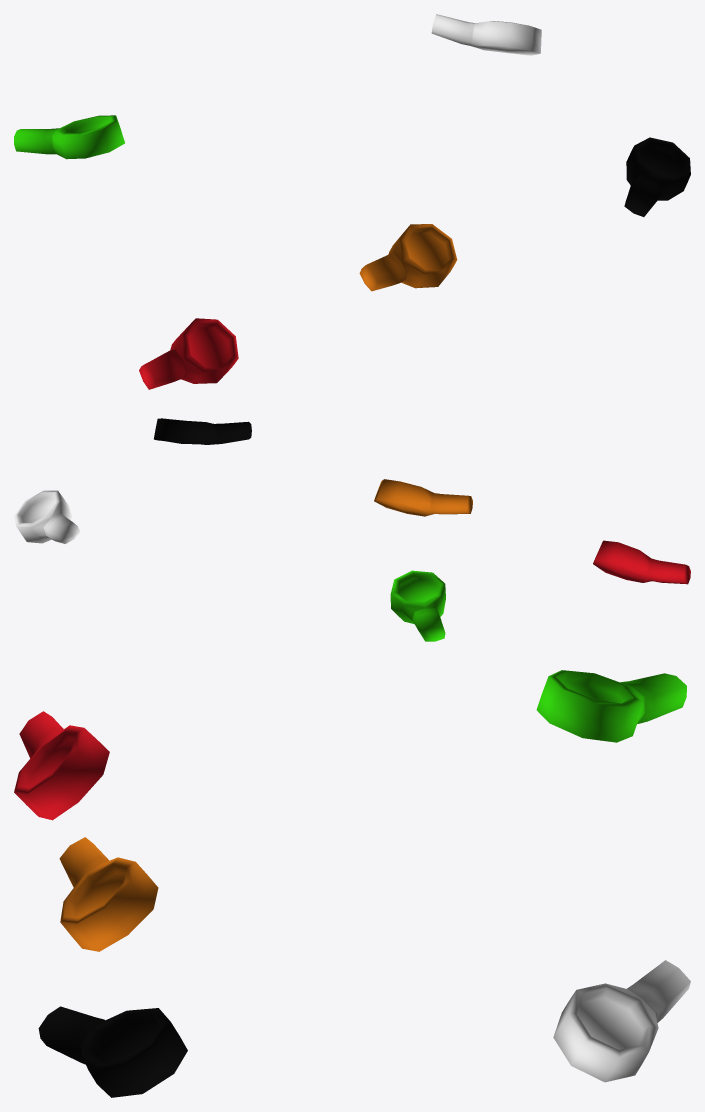
Rendered from EGC_LOW_6.fbx.
3 renders of one model, top to bottom at view 1: azimuth 30°, elevation 25°; view 2: azimuth 150°, elevation 25°; view 3: azimuth 270°, elevation 25°, orthographic. The views are drawn at different scales.
Parts seen in each view (by area): view 1: Brown.004, Brown.001, Brown.003, Brown.002, Brown.000; view 2: Brown.002, Brown.004, Brown.000, Brown.001, Brown.003; view 3: Brown.000, Brown.003, Brown.002, Brown.001, Brown.004.
Boxes of the visible parts, bbox=[...] form: Brown.004: bbox=[139, 318, 238, 389]; Brown.001: bbox=[359, 224, 457, 291]; Brown.003: bbox=[624, 137, 690, 216]; Brown.002: bbox=[14, 115, 124, 159]; Brown.000: bbox=[431, 14, 541, 55]; Brown.002: bbox=[390, 570, 445, 641]; Brown.004: bbox=[593, 540, 690, 584]; Brown.000: bbox=[14, 490, 80, 543]; Brown.001: bbox=[374, 479, 472, 516]; Brown.003: bbox=[154, 418, 251, 444]; Brown.000: bbox=[553, 960, 690, 1082]; Brown.003: bbox=[38, 1006, 187, 1097]; Brown.002: bbox=[536, 670, 686, 742]; Brown.001: bbox=[59, 837, 158, 951]; Brown.004: bbox=[14, 711, 109, 820].
Bounding box in the file's own units: 73.12 × 14.36 × 48.73.
